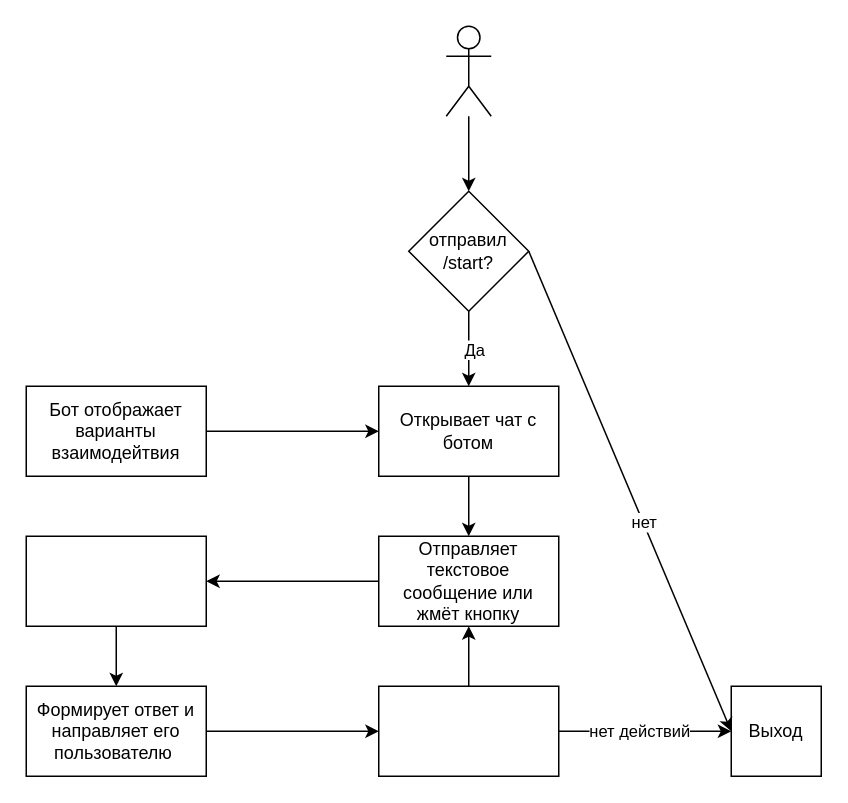
This 848x803 diagram has some shape labels left out. The box of each missing label's shape, as (x1, y1, x2, y2) in pixels:
Actor: (445, 25, 491, 116)
Бот анализирует полученный контент: (25, 535, 206, 626)
Пользователь ознакамливается с ответом бота: (377, 685, 559, 776)
